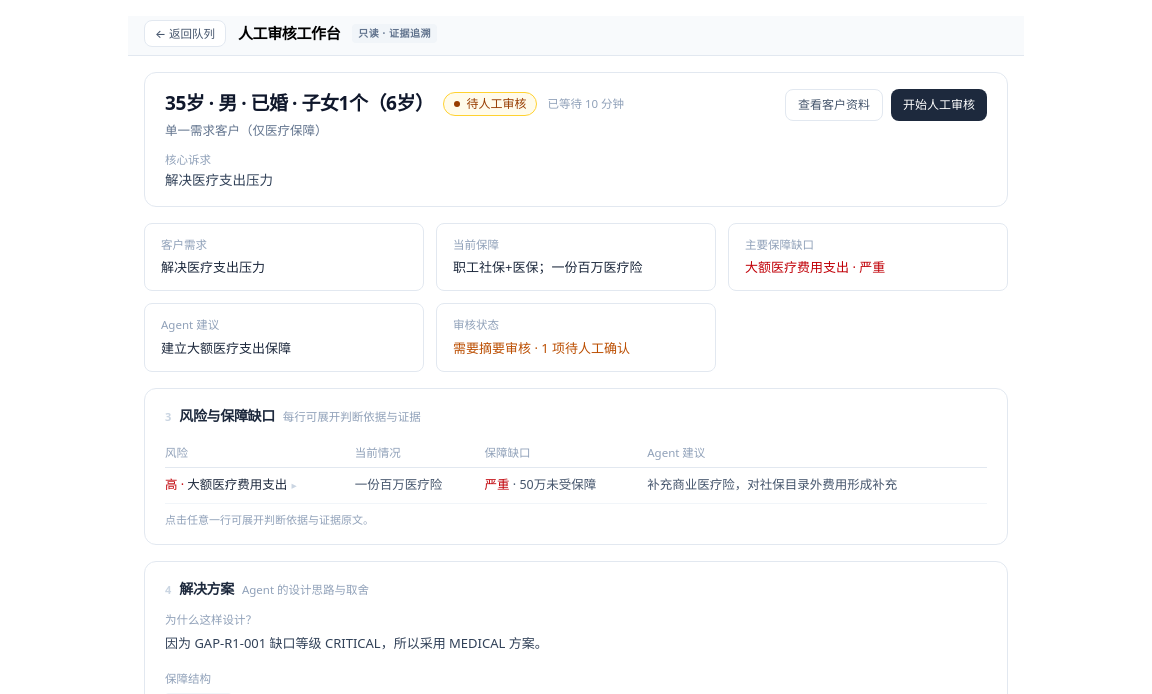
Scenario: Review Workspace — Phase 27.7.7 human-readable IA › risk table renders the join and expands to rationale + evidence原文
The image size is (1152, 694).
Expected: the element with test id "workspace-header" is shown, top-left (144, 72), bottom-right (1008, 207)
Expected: the row with test id "risk-row-R1-001" shows "大额医疗费用支出", top-left (187, 476), bottom-right (287, 493)
Step 1. Click the row with test id "risk-row-R1-001" → [576, 485], box top-left (165, 468), bottom-right (987, 503)
(page scrolled)
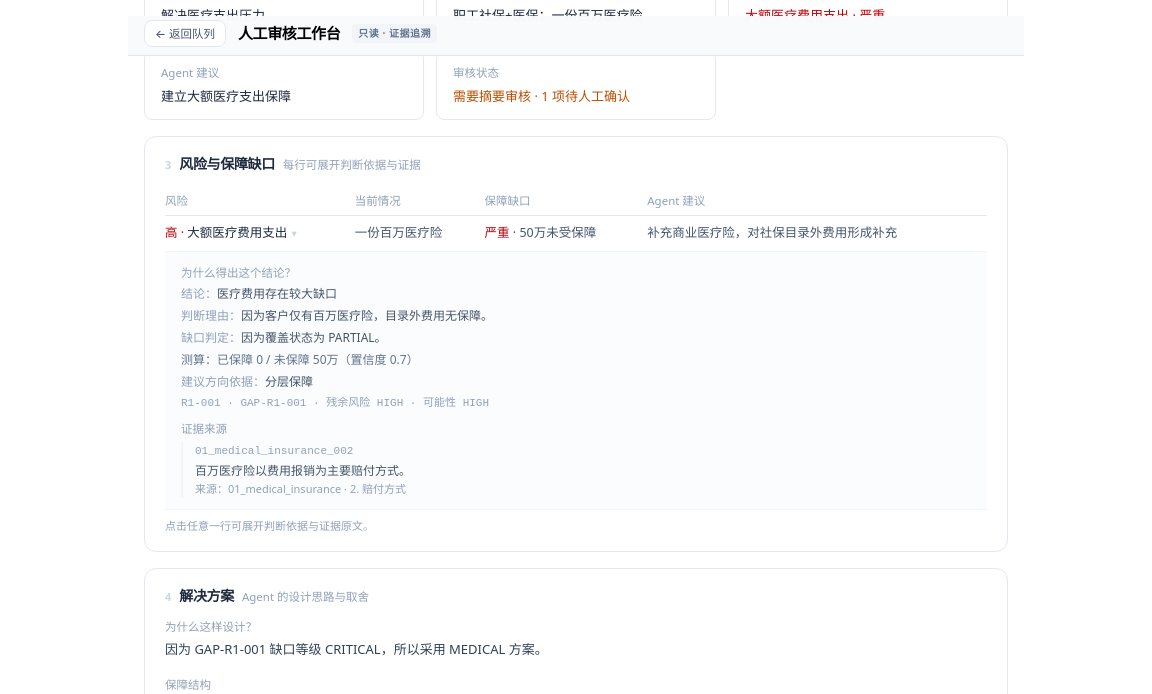
Expected: the element with test id "workspace-risks" shows "医疗费用存在较大缺口", top-left (217, 285), bottom-right (337, 302)
Expected: the element with test id "workspace-risks" shows "因为客户仅有百万医疗险", top-left (241, 307), bottom-right (493, 324)
Expected: the element with test id "workspace-risks" shows "百万医疗险以费用报销为主要赔付方式", top-left (195, 462), bottom-right (411, 479)
